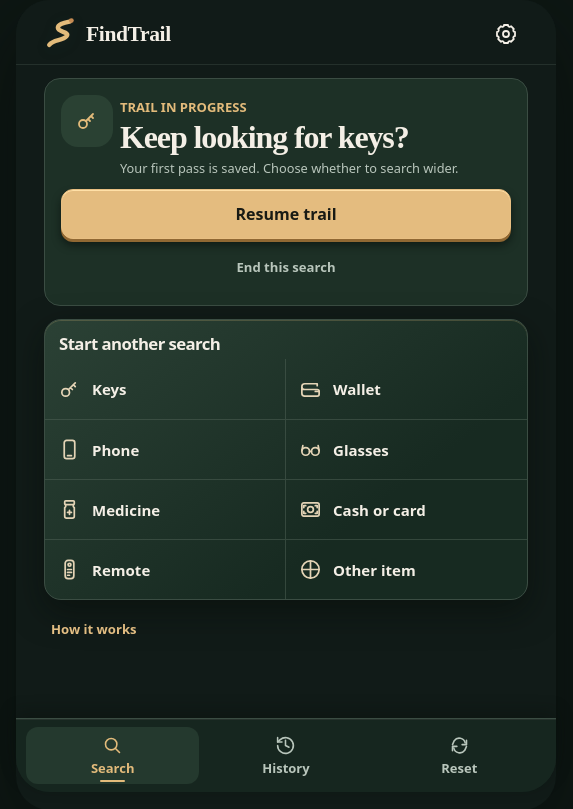
Test: search improvements › describes the saved checkpoint instead of repeating the last area
Expected: the text "Your first pass is saved. Choose whether to search wider." is shown, [120, 159, 511, 178]
Click the button "Resume trail" at (286, 214), box [61, 190, 511, 240]
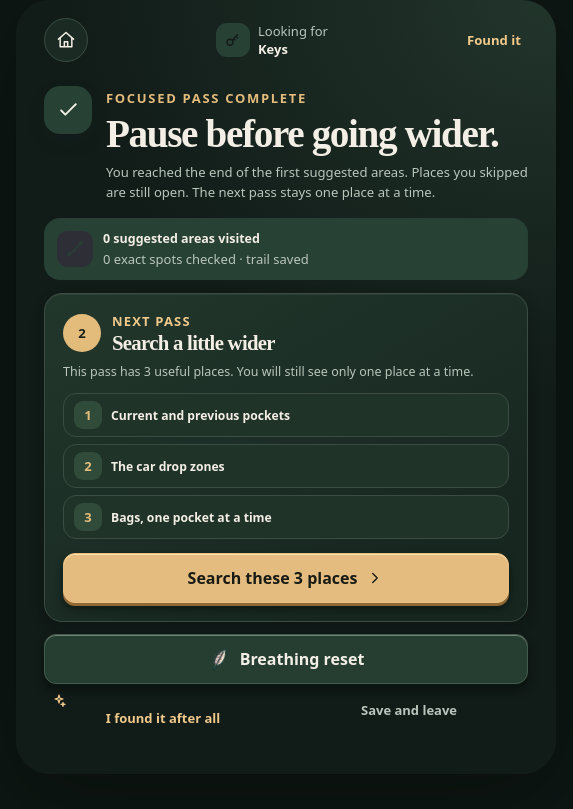
Now the heading "Pause before going wider." is shown, box [106, 113, 528, 154]
